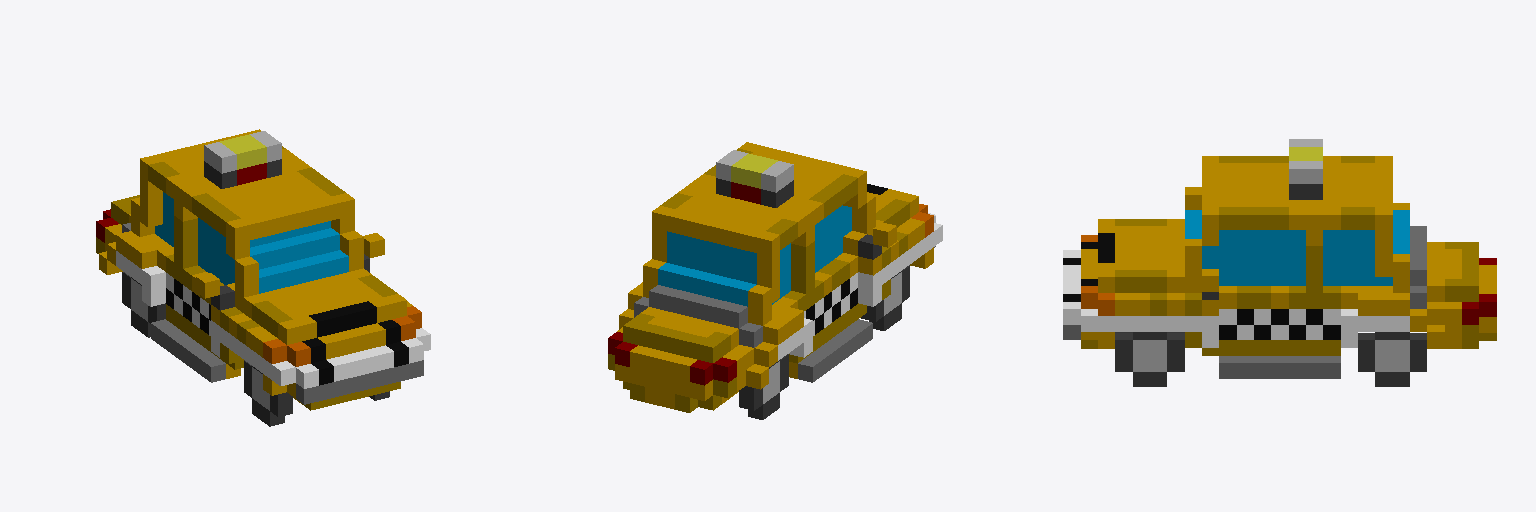
3 renders of one model, left to right at view 1: azimuth 30°, elevation 25°; view 2: azimuth 150°, elevation 25°; view 3: azimuth 270°, elevation 25°, orthographic.
Visible parts, largest first — view 1: object 1; view 2: object 1; view 3: object 1.
Part boxes in pixels (left/top/right/bottom): object 1: left=96, top=129, right=430, bottom=426; object 1: left=608, top=142, right=942, bottom=419; object 1: left=1063, top=139, right=1496, bottom=386.
Bounding box in the file's own units: 1.2 × 1.3 × 2.5.
1 materials, 1 textured.